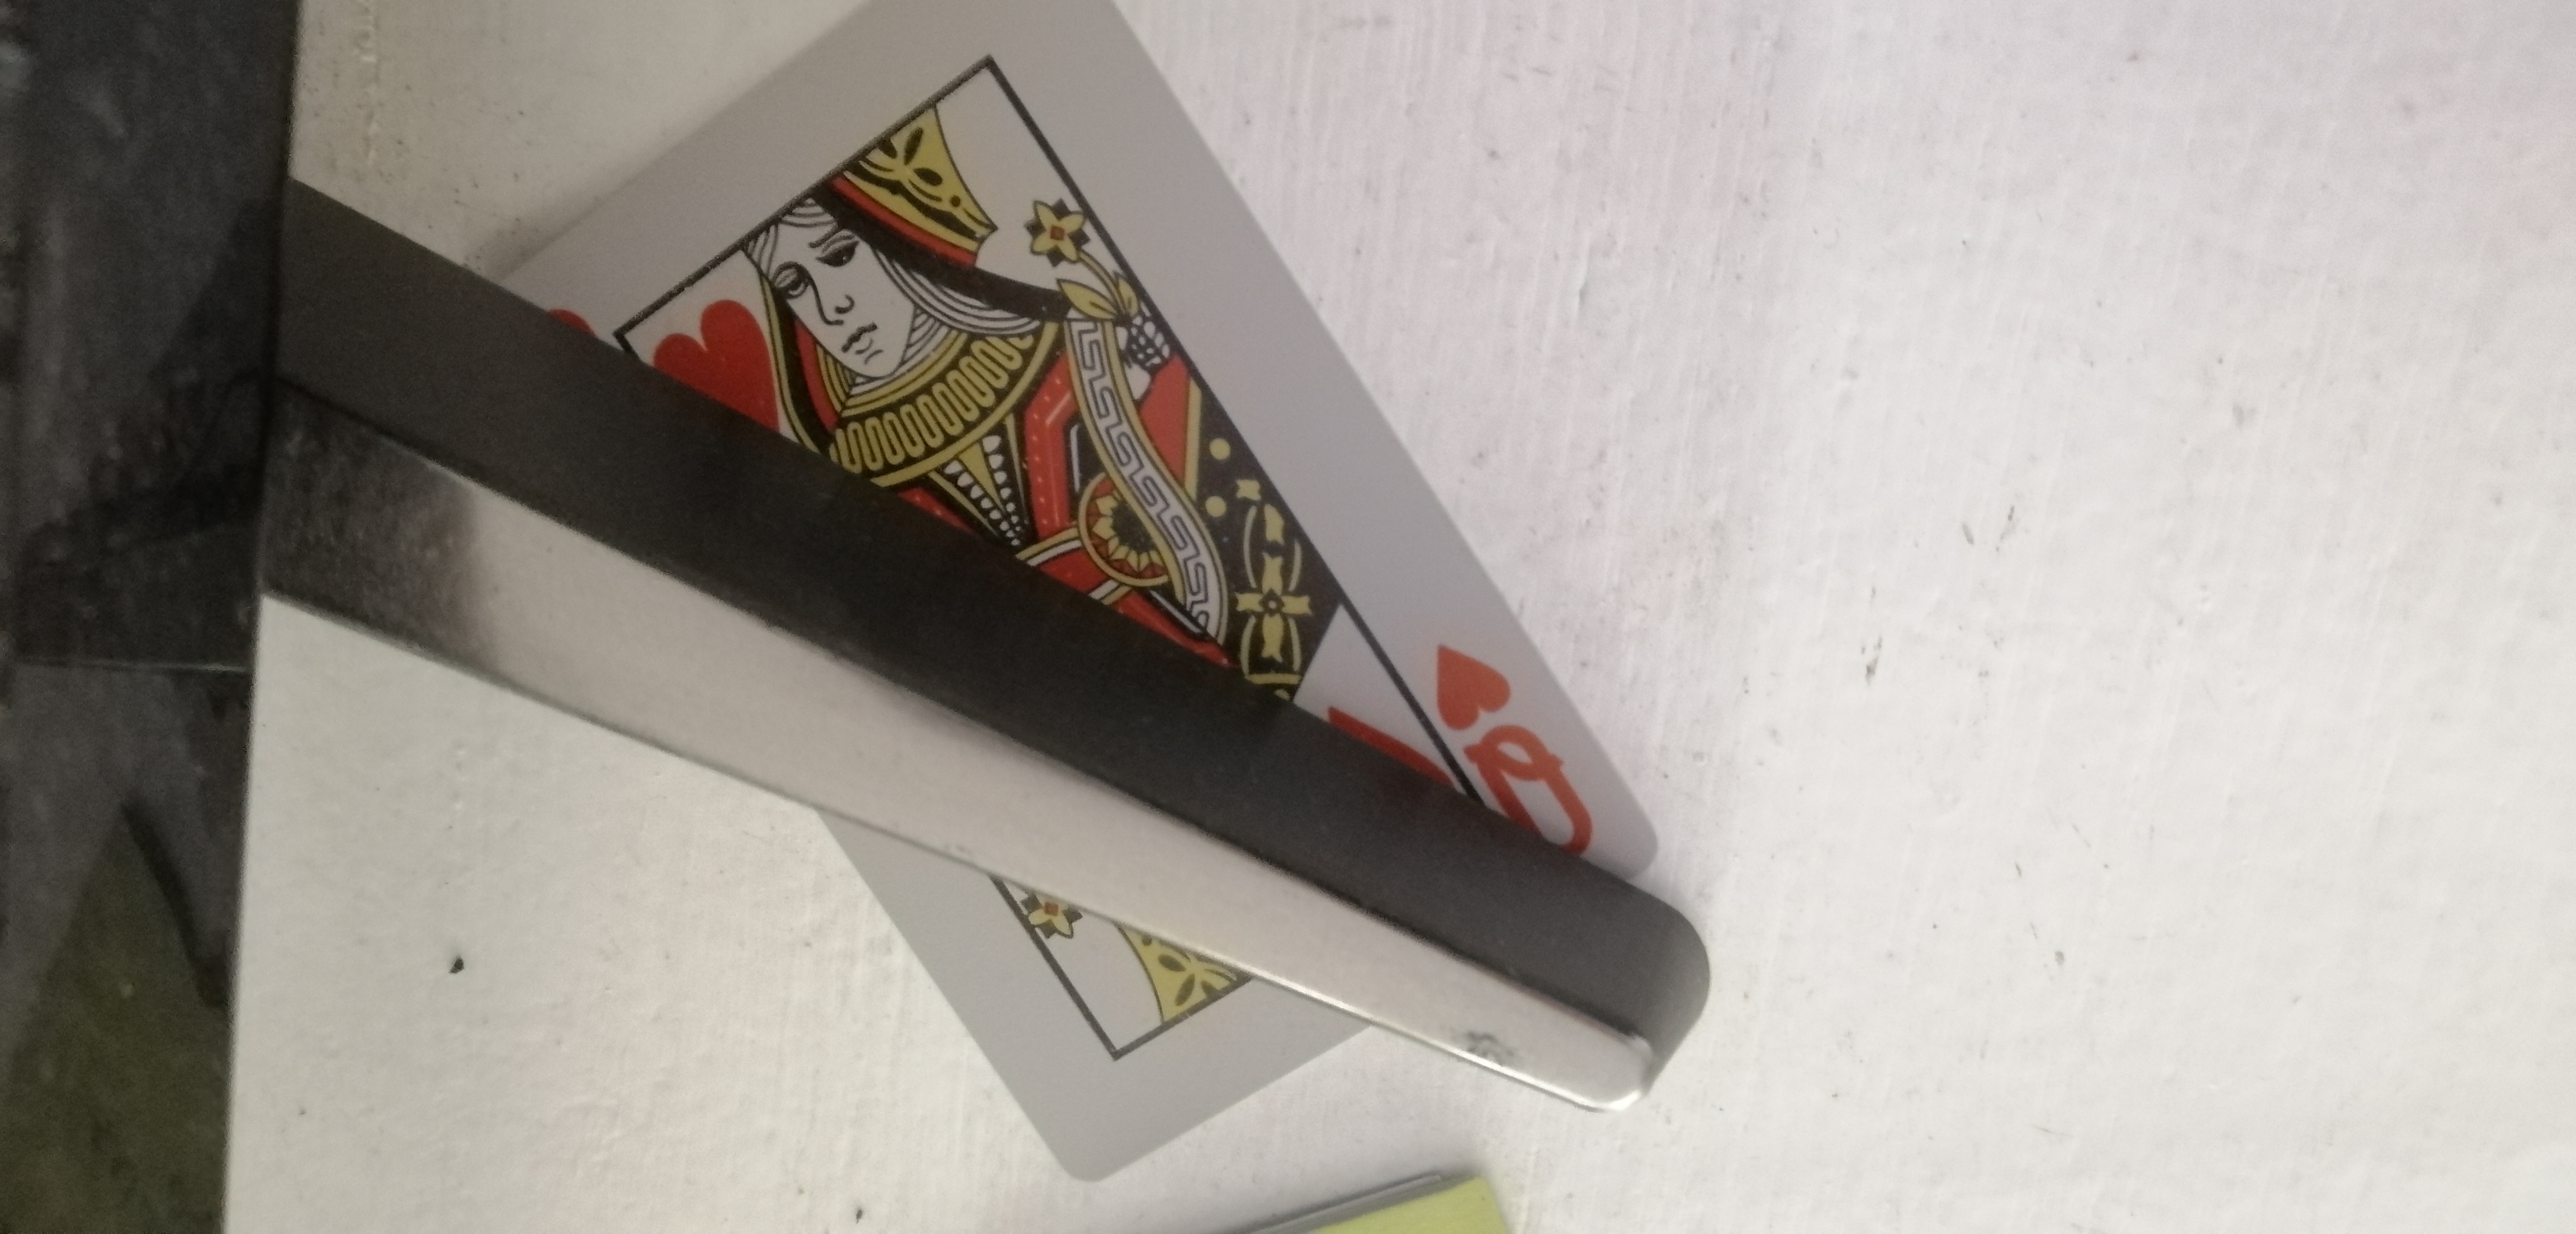queen: (568, 5, 1733, 914)
